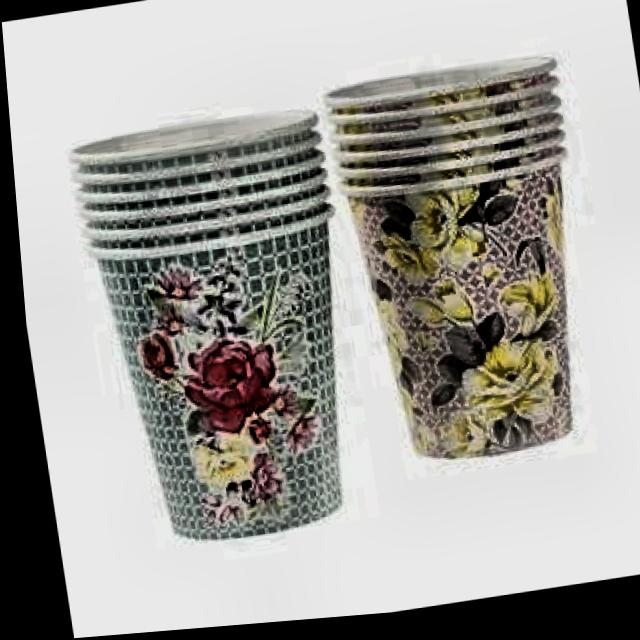Cup: (67, 98, 372, 568), (315, 51, 612, 509)
